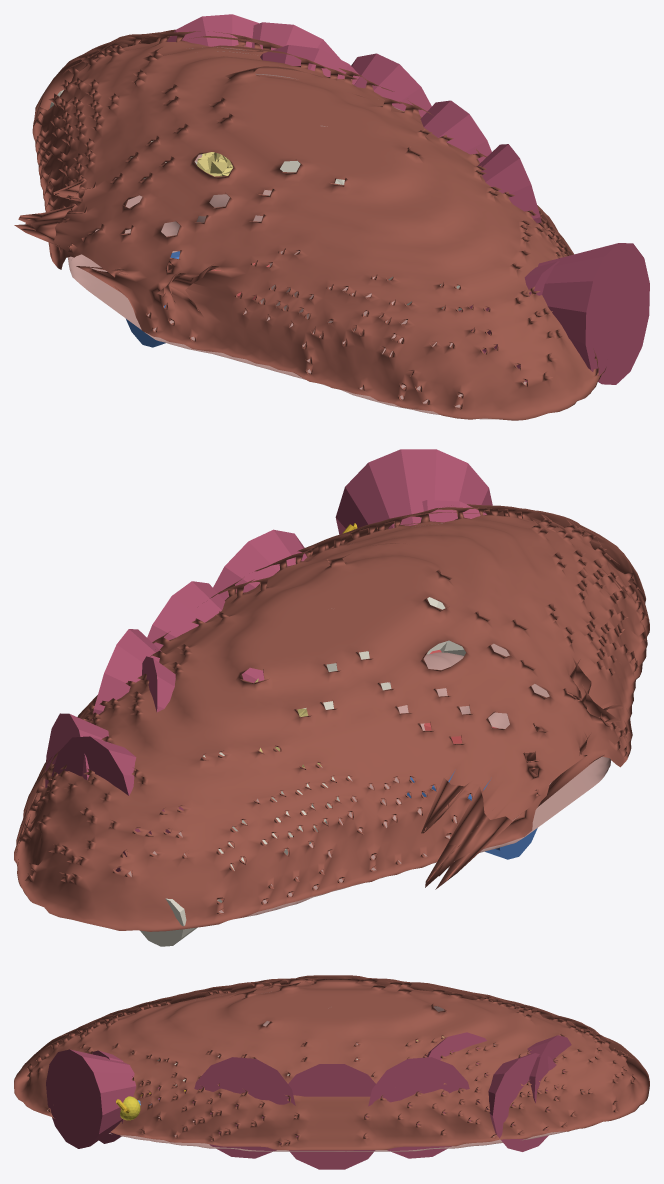
File: combined_anatomical_kidney.glb
3 views of the same model, one above another, from view 1: azimuth 30°, elevation 25°; view 2: azimuth 150°, elevation 25°; view 3: azimuth 270°, elevation 25° (orthographic). The views are drawn at different scales.
Visible parts, largest first — view 1: geometry_1, geometry_2, geometry_0, geometry_8; view 2: geometry_1, geometry_2, geometry_0, geometry_3; view 3: geometry_1, geometry_2, geometry_0, geometry_7.
Part boxes in pixels (<box>): geometry_1: <box>14,29,606,420</box>; geometry_2: <box>167,14,649,384</box>; geometry_0: <box>67,47,526,419</box>; geometry_8: <box>197,152,233,176</box>; geometry_1: <box>14,504,649,931</box>; geometry_2: <box>45,449,492,871</box>; geometry_0: <box>128,523,611,920</box>; geometry_3: <box>140,597,465,946</box>; geometry_1: <box>14,975,649,1150</box>; geometry_2: <box>46,1032,571,1169</box>; geometry_0: <box>47,991,577,1151</box>; geometry_7: <box>116,1090,185,1120</box>.
Size of the model in its own units: 47.12 by 21.34 by 93.73.
